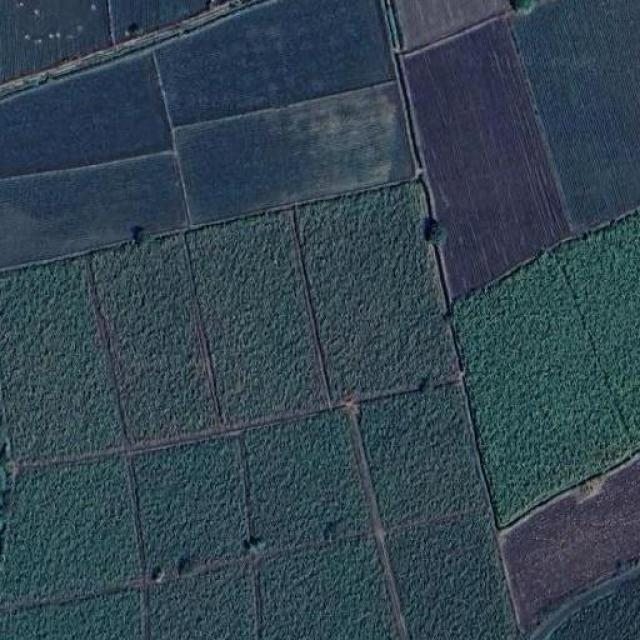land-Sx1C: (450, 256, 633, 526), (404, 15, 572, 301), (301, 181, 461, 403), (177, 83, 416, 224), (189, 211, 329, 427), (514, 0, 640, 233), (161, 1, 394, 126), (91, 233, 216, 449), (499, 454, 640, 630), (0, 262, 121, 458), (0, 153, 185, 267), (0, 56, 170, 177), (359, 380, 489, 530), (1, 459, 136, 601), (243, 409, 376, 550), (558, 215, 638, 443), (131, 436, 245, 577), (389, 515, 512, 639), (261, 539, 388, 640), (1, 0, 109, 83), (151, 566, 252, 640), (0, 591, 140, 640), (548, 578, 640, 639), (395, 2, 513, 47), (111, 0, 224, 41)
